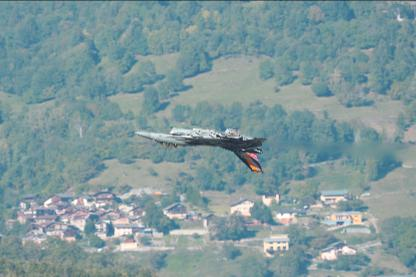F14: (130, 126, 268, 172)
